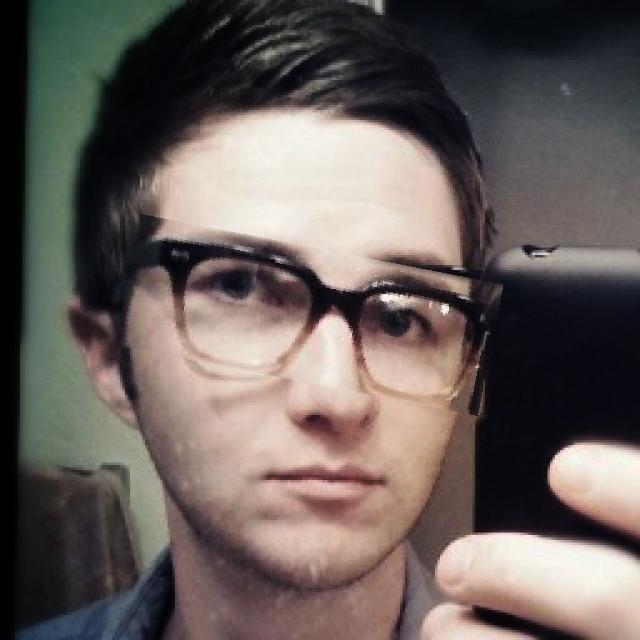glasses: (119, 231, 499, 399)
